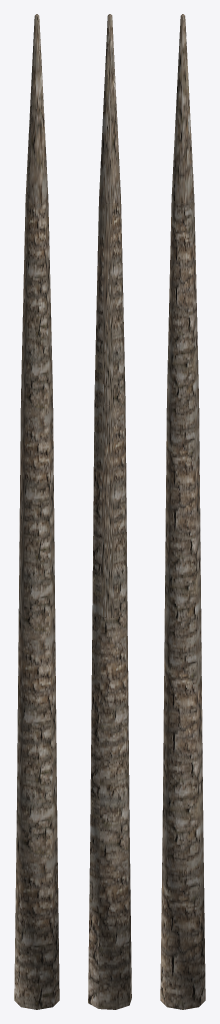
The model's file is Tree_Pine_Trunk.obj.
3 views of the same model, side by side, from view 1: azimuth 90°, elevation 25°; view 2: azimuth 150°, elevation 25°; view 3: azimuth 270°, elevation 25° (orthographic).
Parts seen in each view (by area): view 1: Trunk_Circle.008; view 2: Trunk_Circle.008; view 3: Trunk_Circle.008.
Part boxes in pixels (x1,y1,x2,y2): Trunk_Circle.008: (14,14,59,1009); Trunk_Circle.008: (88,14,131,1009); Trunk_Circle.008: (160,14,205,1009).
Size of the model in its own units: 0.1839 by 4.42 by 0.1839.
1 material, 1 textured.
